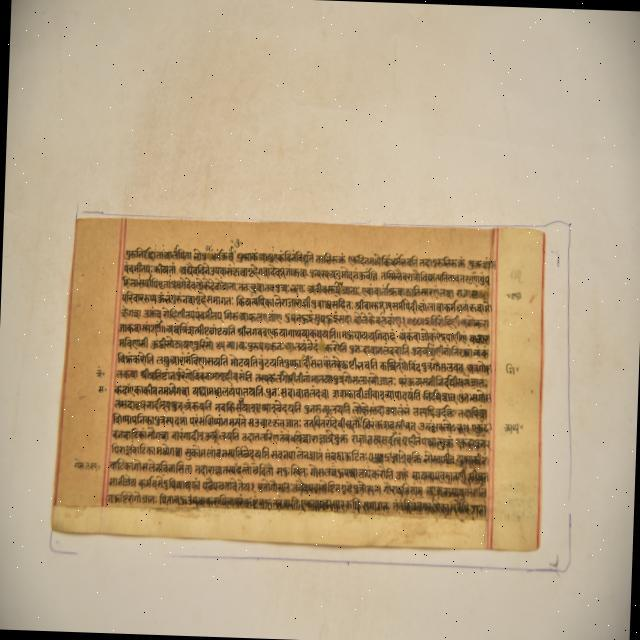text_paragraph: (48, 215, 545, 549)
